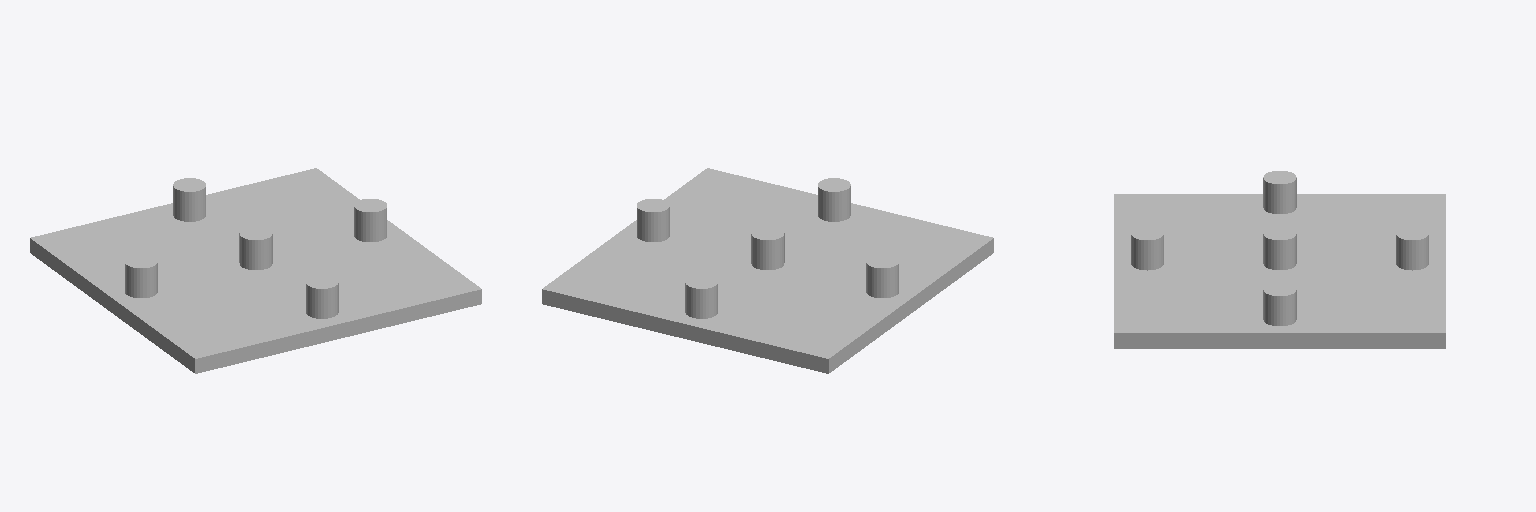
File: Map.obj
3 views of the same model, side by side, from view 1: azimuth 30°, elevation 25°; view 2: azimuth 150°, elevation 25°; view 3: azimuth 270°, elevation 25° (orthographic).
Visible parts, largest first — view 1: Cube, Cylinder003, Cylinder000, Cylinder004, Cylinder001, Cylinder002; view 2: Cube, Cylinder003, Cylinder000, Cylinder004, Cylinder001, Cylinder002; view 3: Cube, Cylinder001, Cylinder002, Cylinder003, Cylinder000, Cylinder004.
Part boxes in pixels (x1,y1,x2,y2): Cube: (30, 168, 481, 373); Cylinder003: (239, 227, 272, 269); Cylinder000: (306, 275, 338, 318); Cylinder004: (173, 178, 205, 221); Cylinder001: (354, 199, 386, 241); Cylinder002: (125, 255, 157, 297); Cube: (542, 168, 993, 373); Cylinder003: (751, 227, 784, 269); Cylinder000: (818, 178, 850, 221); Cylinder004: (685, 275, 717, 318); Cylinder001: (637, 199, 669, 241); Cylinder002: (866, 255, 898, 297); Cube: (1114, 194, 1445, 348); Cylinder001: (1263, 282, 1296, 325); Cylinder002: (1263, 171, 1296, 213); Cylinder003: (1263, 227, 1296, 269); Cylinder000: (1131, 226, 1163, 270); Cylinder004: (1396, 226, 1428, 270).
Bounding box in the file's own units: 20 × 3 × 20.